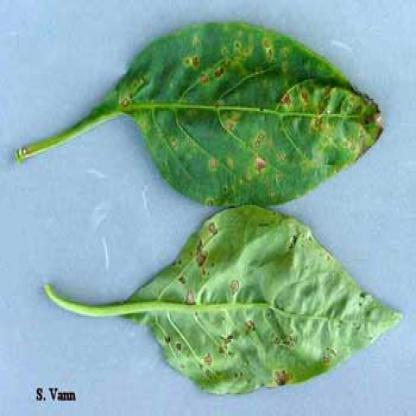bell pepper leaf spot: (107, 202, 408, 398), (96, 23, 403, 211)
